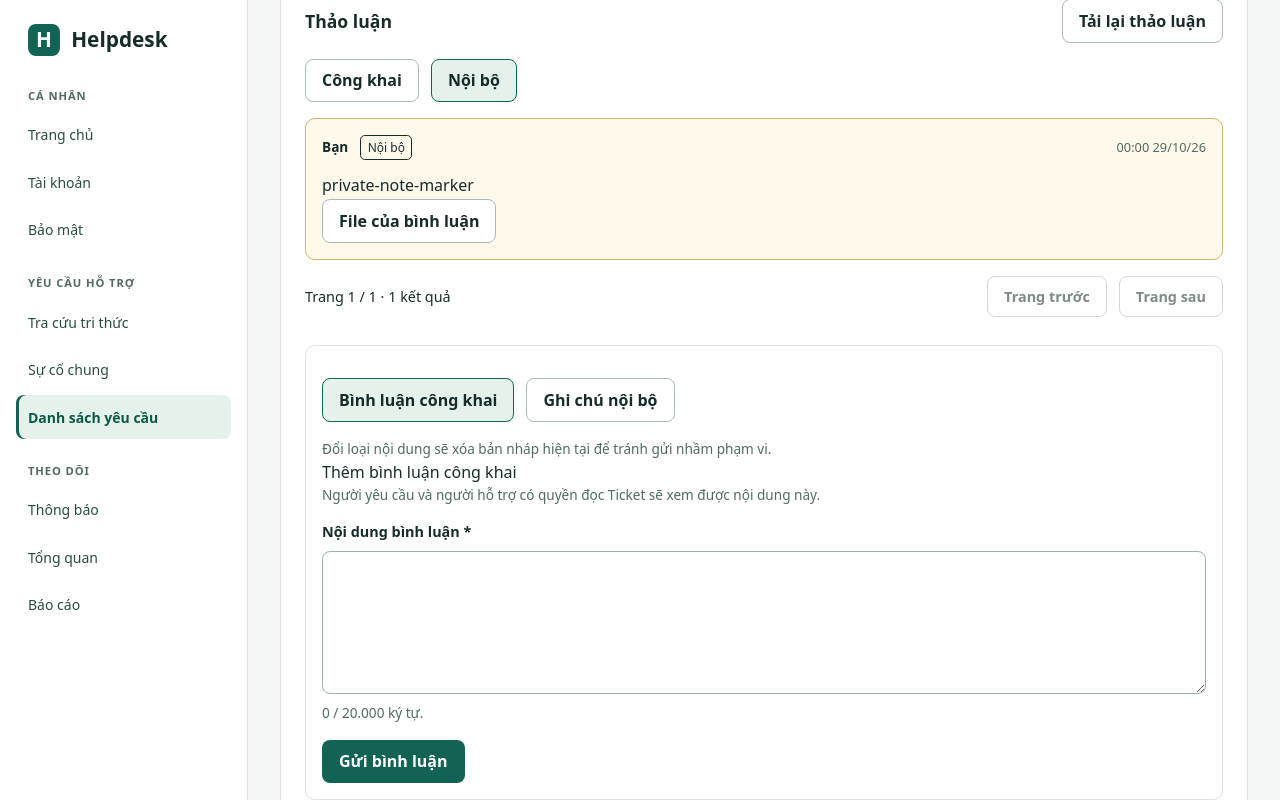
Test: discussion ACL, visibility and cache isolation › purges private cache and draft when current resource capability is revoked
This screenshot has width=1280, height=800.
(page scrolled)
Expected: the text "private-note-marker" is shown, [322,174,474,196]
Click the button "Ghi chú nội bộ": (600, 400) [526,378,674,422]
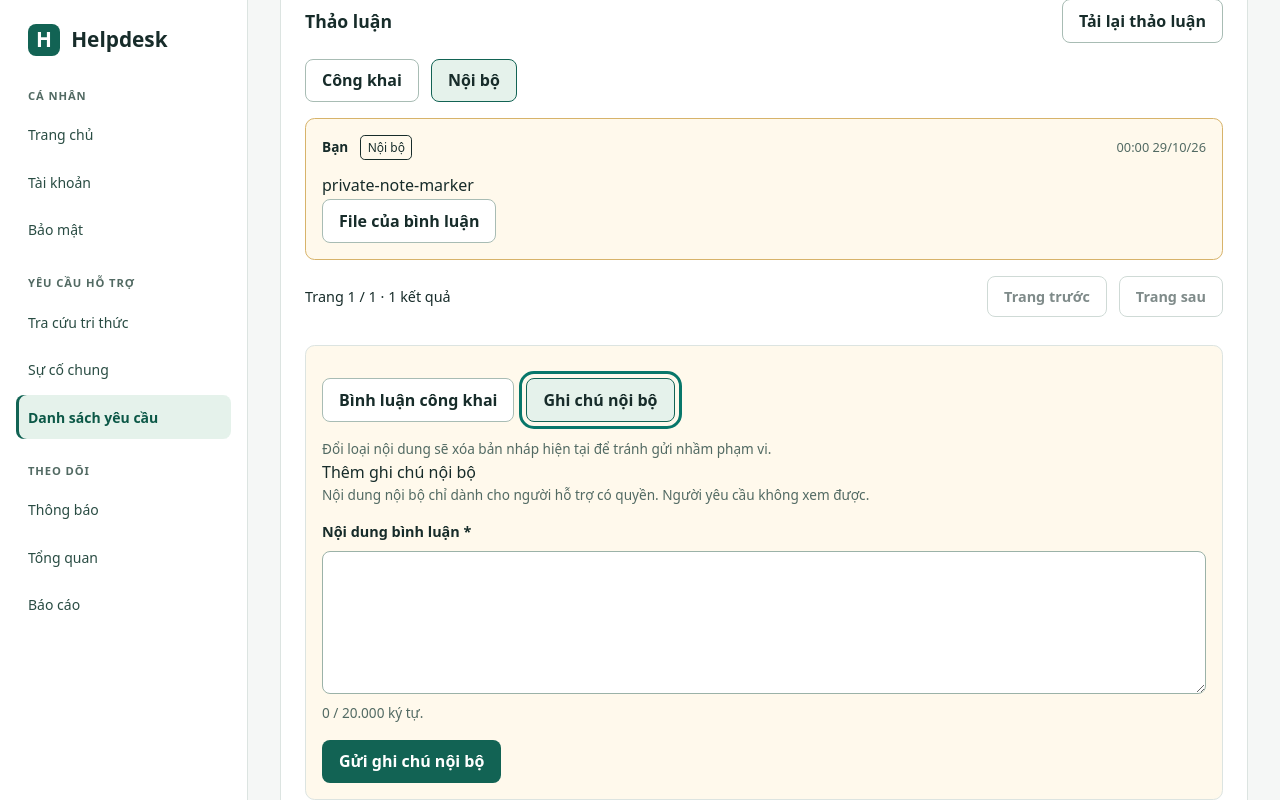
In the text box labelled "Nội dung bình luận": (764, 622) [322,551,1206,694], type "private draft"
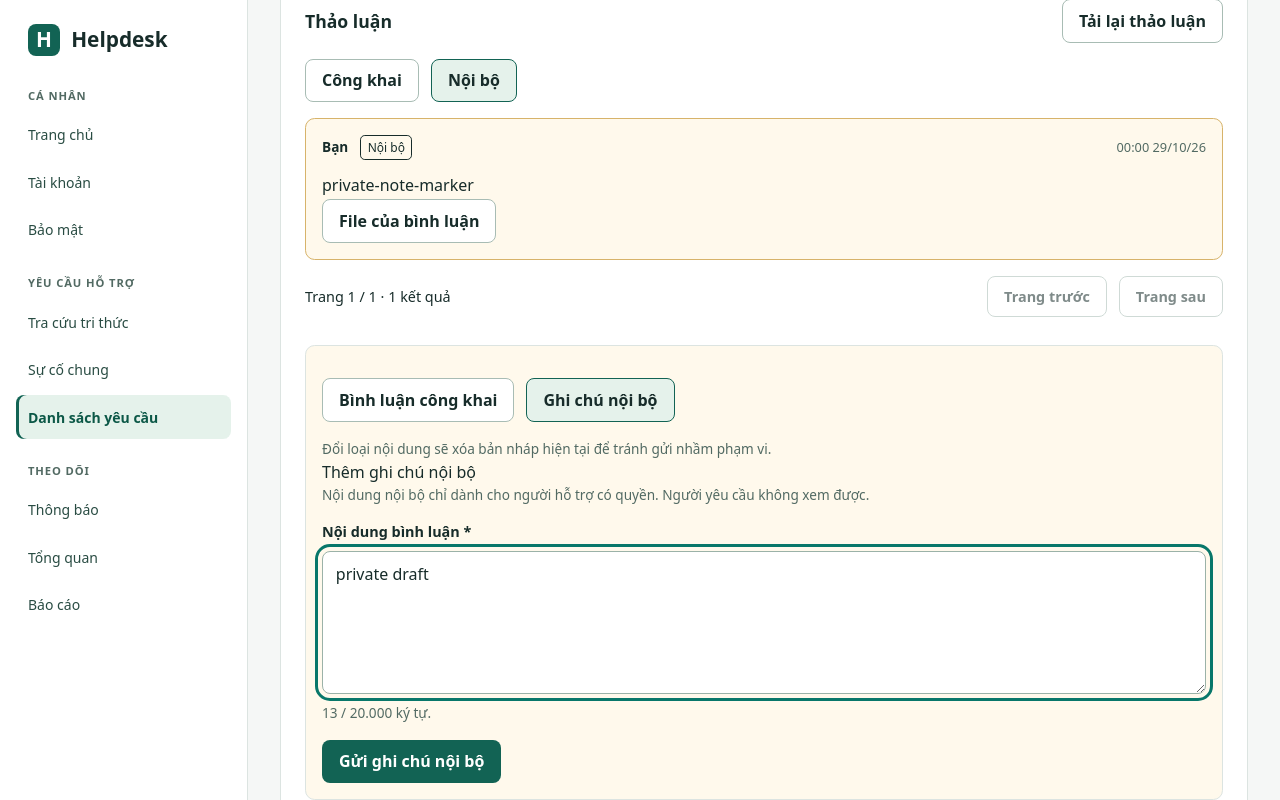
Click the button "Tải lại thảo luận": (1142, 21) [1062,0,1223,43]
(page scrolled)
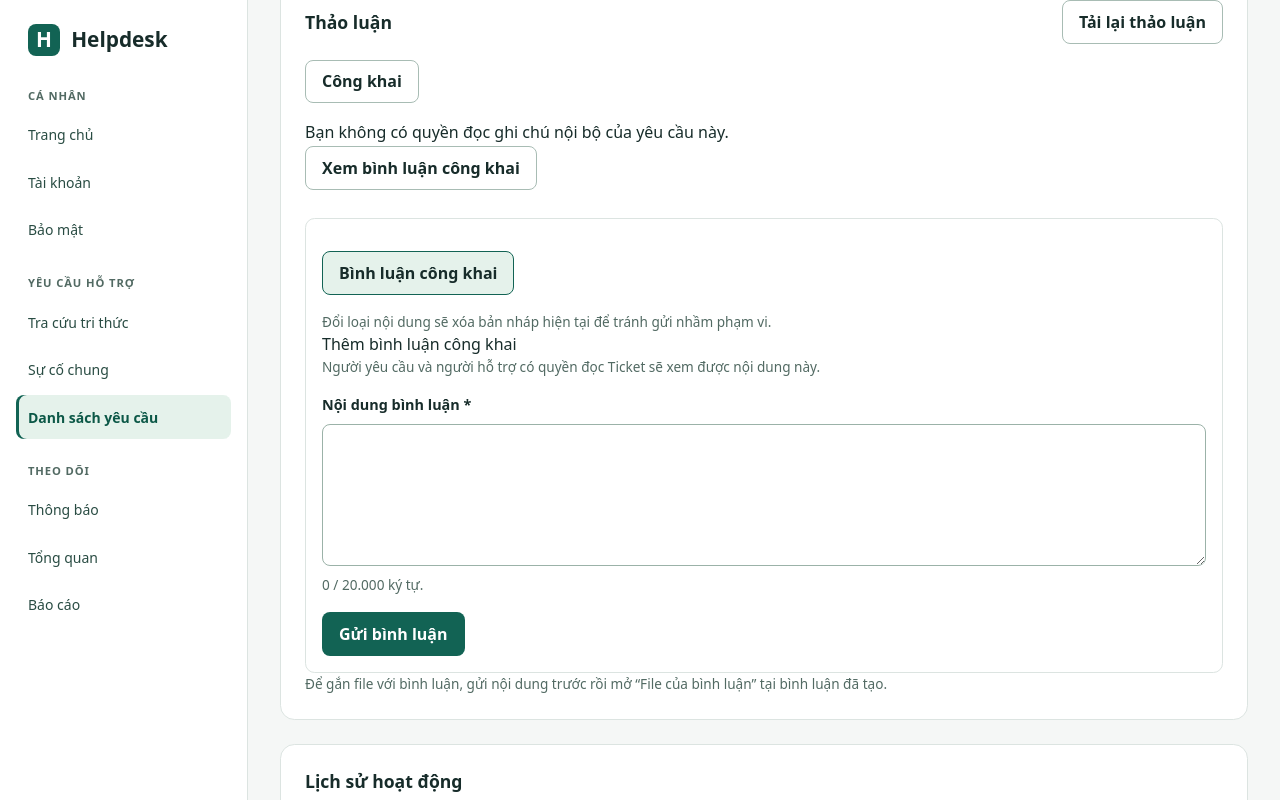
Expected: the text "Bạn không có quyền đọc ghi chú nội bộ của yêu cầu này." is shown, [305,121,729,143]
Expected: the text box labelled "Nội dung bình luận" is empty, [322,424,1206,566]
Expected: the text "private-note-marker" is gone
